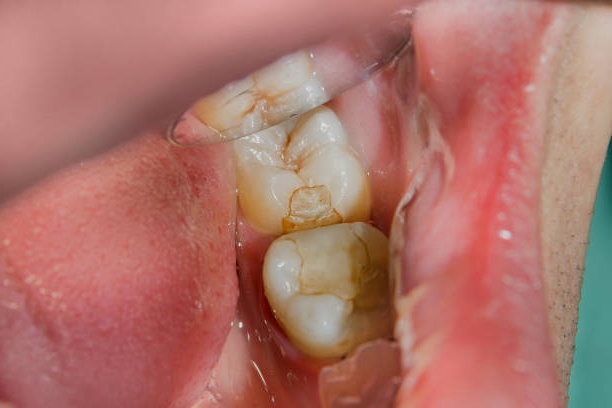Caries: (277, 180, 350, 240)
